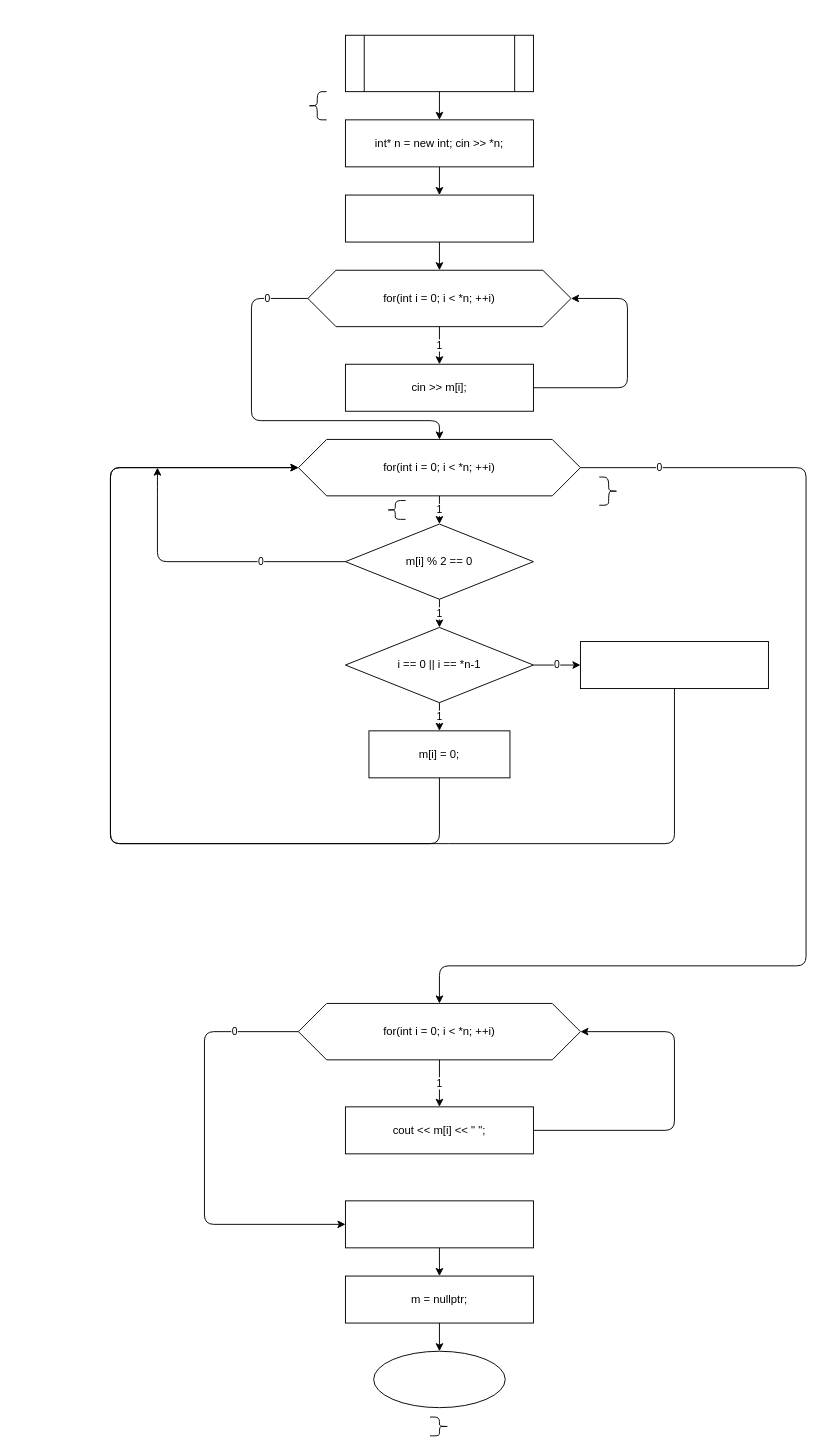
The diagram is 830 pixels wide and 1452 high, and some of its shapes have lost their labels. The centre of each missing label's shape, as x and y in pixels:
delete m; delete n;: the point at 439,1224
int main(): the point at 439,63
int* m = new int[*n];: the point at 439,218
m[i] = m[i-1] + m[i+1];: the point at 674,665
return 0;: the point at 439,1379
